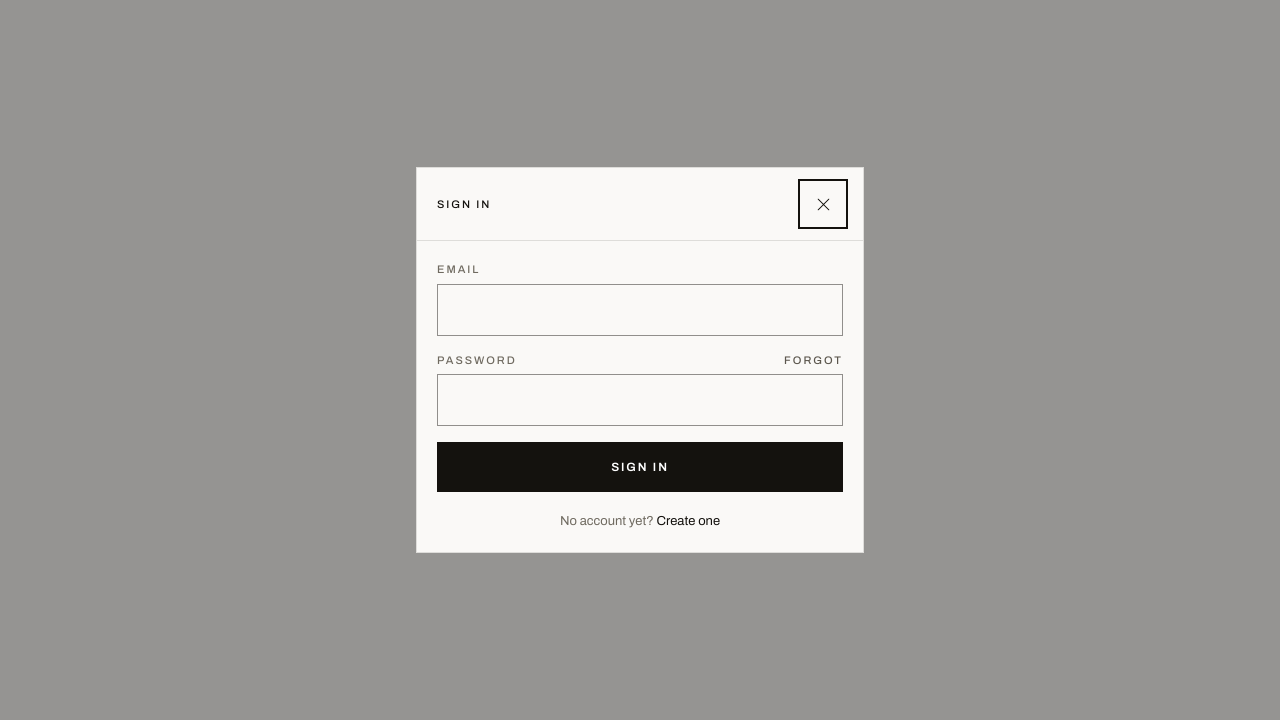
Test: AuthModal › requires a 12-character password and explains email verification after signup
This screenshot has width=1280, height=720.
Click the button "Create one". click: point(688, 522)
box: [657, 512, 720, 532]
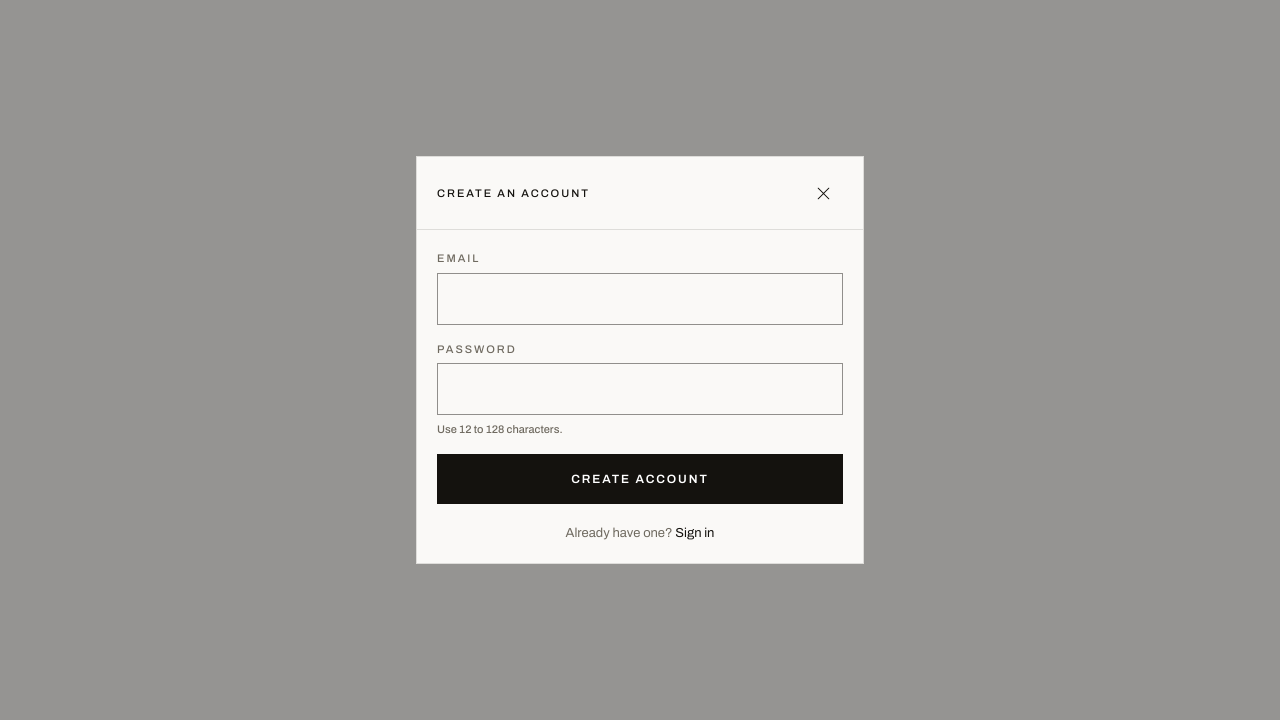
Type "customer@example.com" into the field labelled "Email". click: point(640, 298)
box: [437, 272, 843, 324]
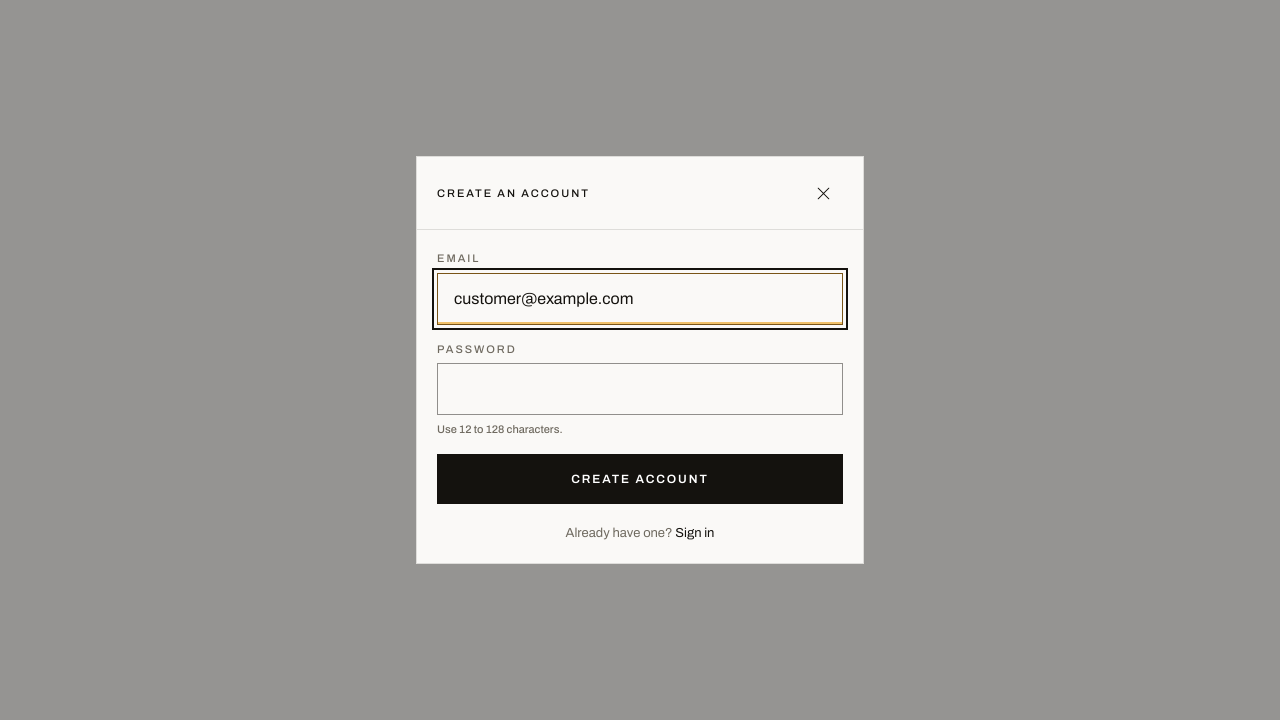
Type "a-secure-passphrase" into the password field labelled "Password". click: point(640, 389)
box: [437, 363, 843, 415]
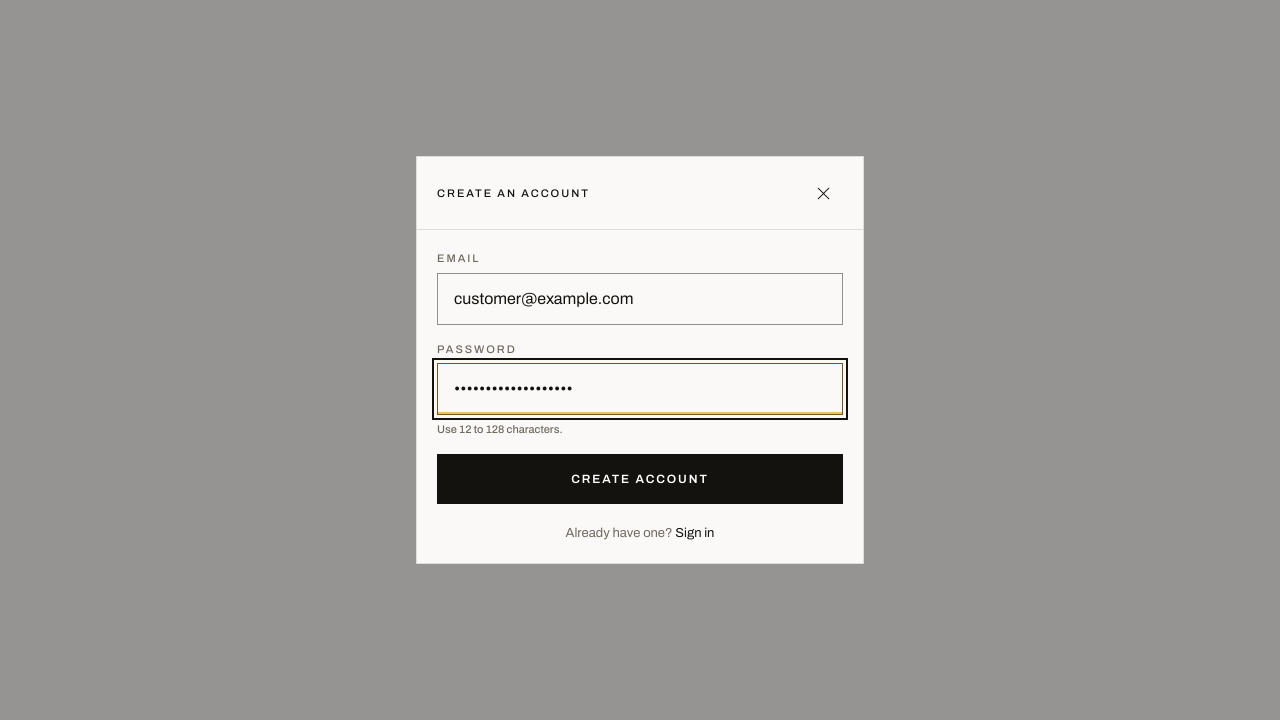
Click the button "Create account". click: point(640, 478)
box: [437, 454, 843, 504]
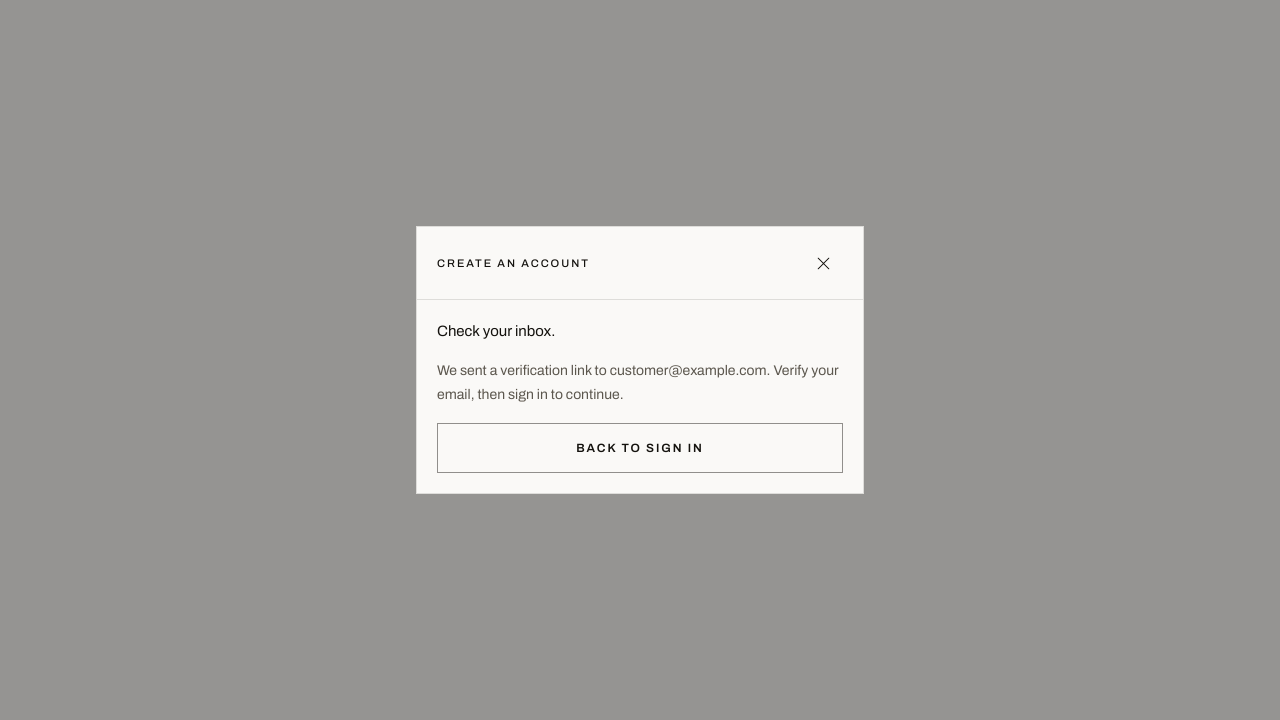
Expected: the text "sent a verification link" is shown, [437, 363, 838, 402]
